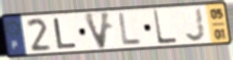2: (25, 17, 53, 53)
J: (184, 6, 208, 43)
L: (152, 8, 179, 46), (117, 11, 142, 47), (53, 17, 79, 50)
V: (82, 11, 113, 51)
